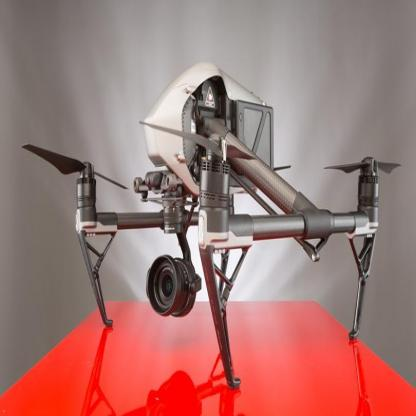drone: (30, 81, 404, 330)
